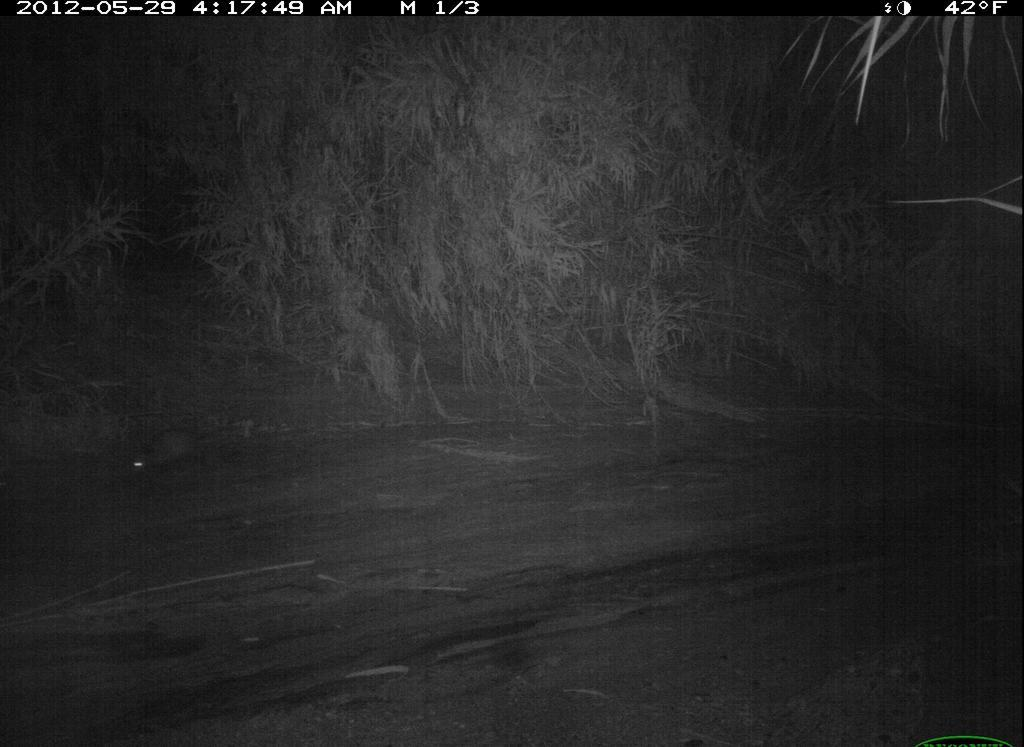opossum: (114, 408, 268, 487)
